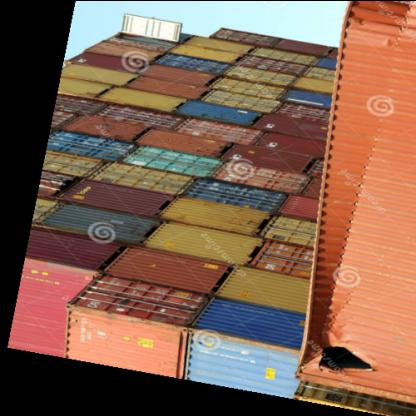Damage: (306, 336, 386, 376)
